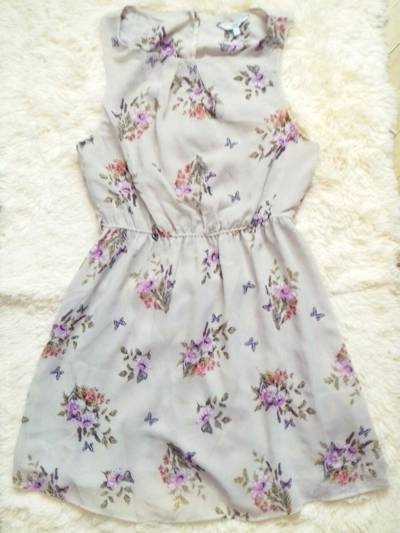Dress: (6, 1, 390, 524)
